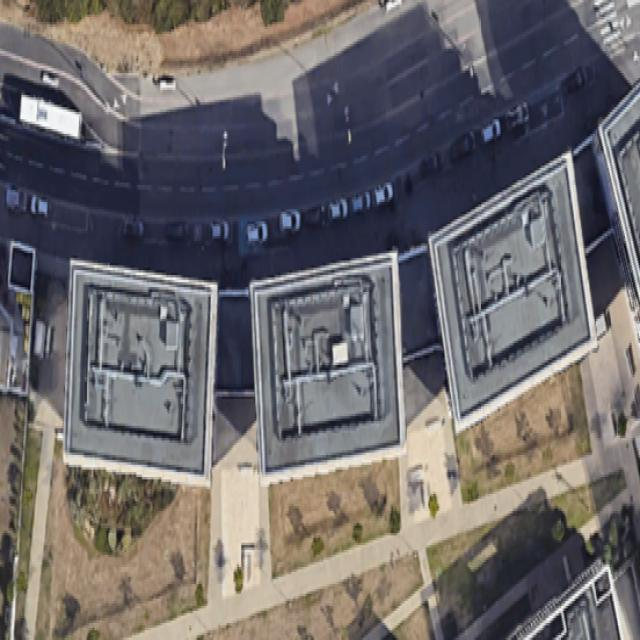immeuble: (418, 151, 605, 431), (249, 251, 408, 484), (59, 260, 219, 484)
